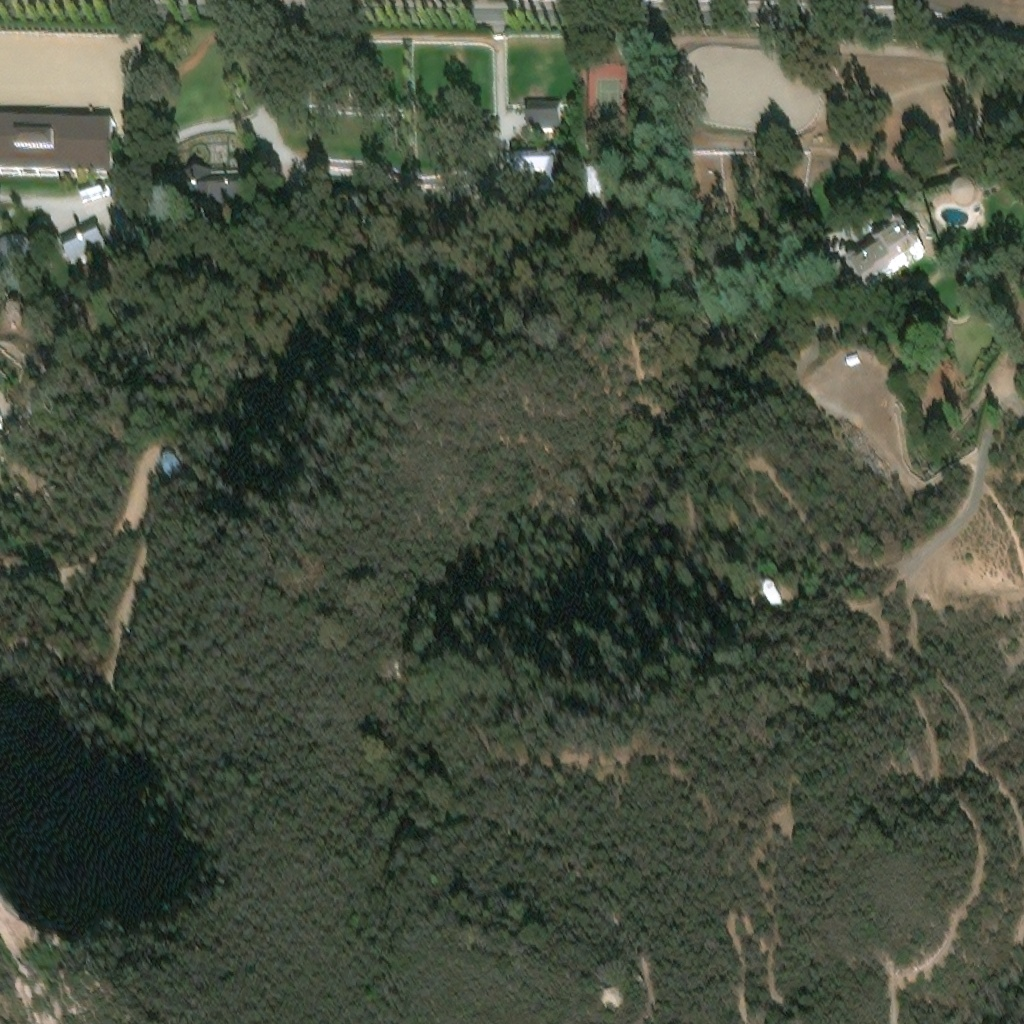0 no-damage: (0, 111, 112, 171), (845, 216, 923, 285), (511, 148, 568, 207), (157, 166, 242, 200), (55, 209, 100, 253), (585, 166, 618, 214), (0, 226, 28, 262), (524, 100, 560, 126), (167, 463, 183, 484), (832, 259, 850, 277), (764, 584, 780, 602)
